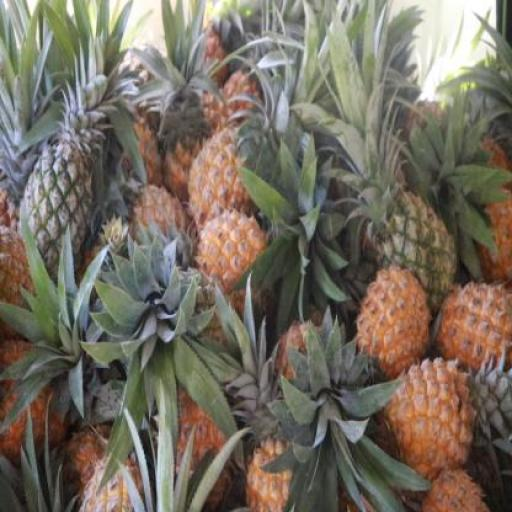Pineapple - v8 v1: (386, 358, 472, 480), (359, 269, 435, 383), (186, 134, 258, 236), (439, 282, 511, 379), (196, 214, 269, 303)
